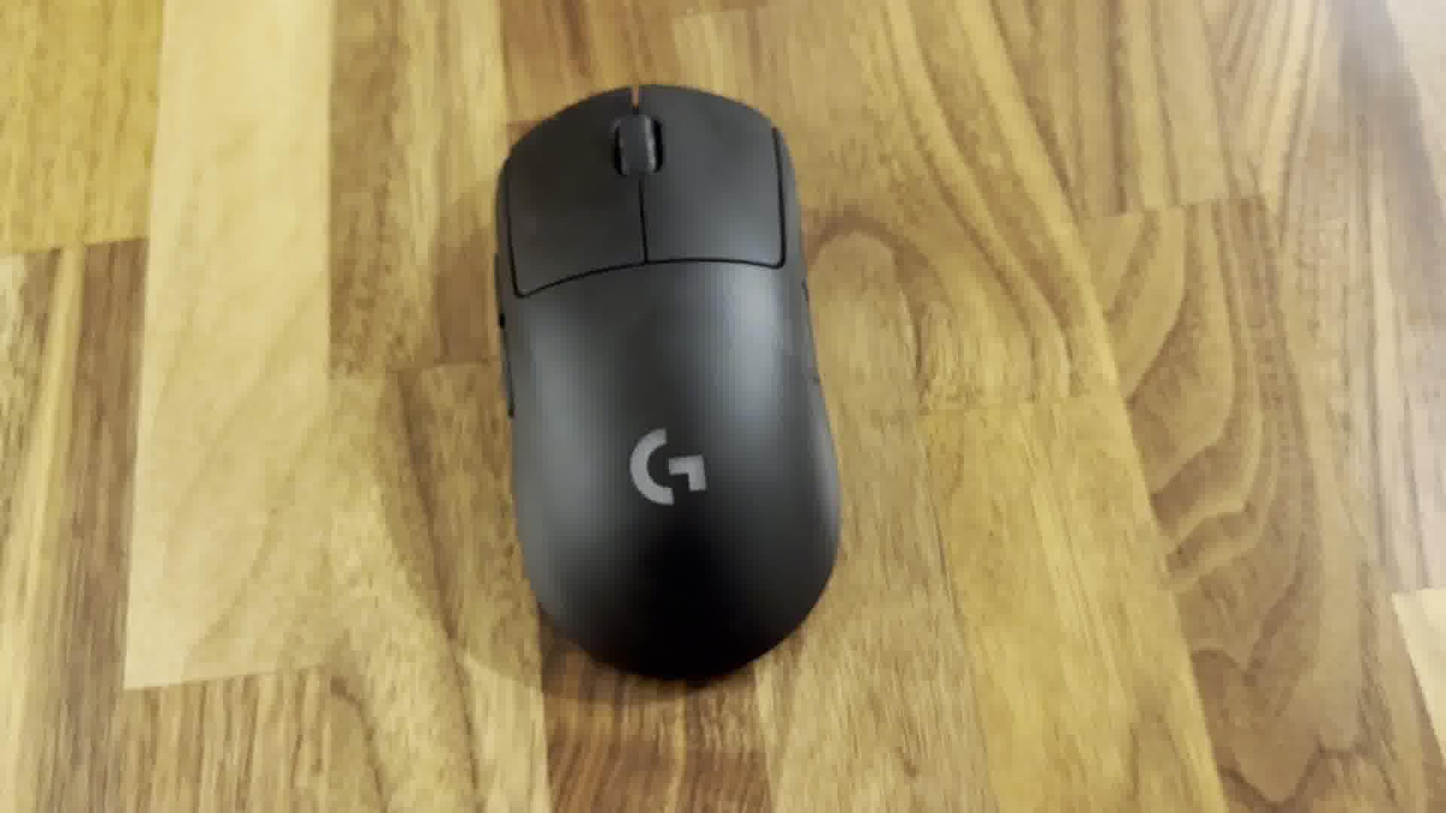mouse: (486, 80, 851, 693)
